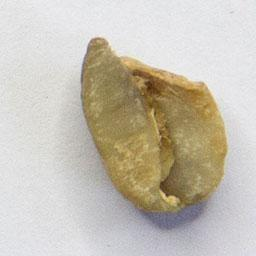defect: (78, 35, 229, 217)
